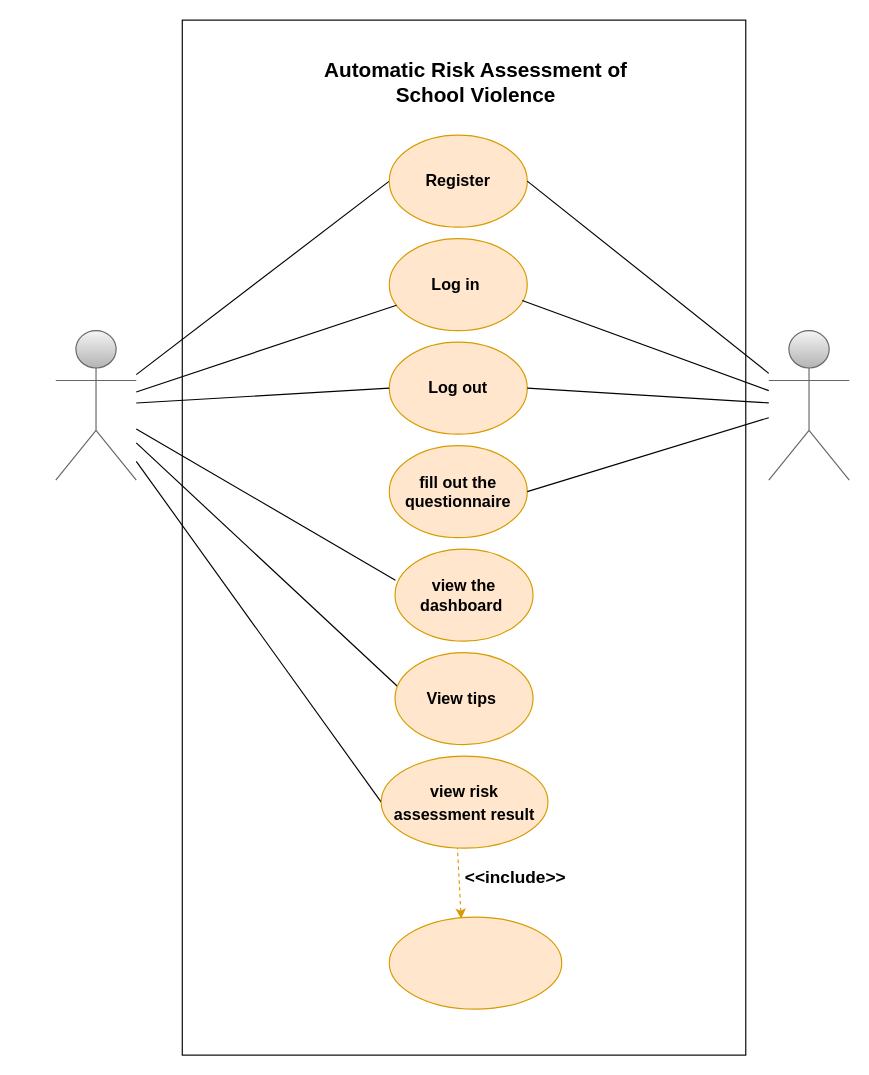
The diagram is 869 pixels wide and 1075 high, and some of its shapes have lost their labels. Here are the shapes that lost their labels. From the top down, the box of each, then its label:
(55, 329, 136, 480): Parent or advisor
(768, 329, 849, 480): Child
(388, 916, 562, 1009): detect the risk level of violence
